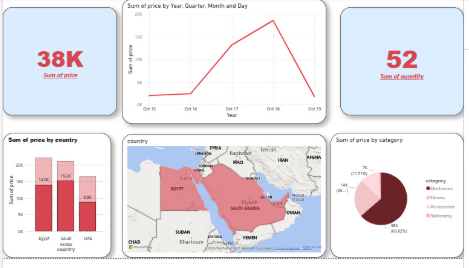

What the dashboard file says about the page in this screenshot:
{"tool":"powerbi","page":{"name":"Page 1","canvas":[1280,720],"ordinal":0},"visuals":[{"type":"filledMap","fields":{"Category":["customers_bronze.country"]},"box":[330.9,376.3,567.8,344.4],"z":0},{"type":"card","fields":{"Values":["Sum(alldata_silver.price)"]},"box":[0,23.5,317.5,300.7],"z":1000},{"type":"card","fields":{"Values":["Sum(alldata_silver.quantity)"]},"box":[940.7,23.5,339.3,300.7],"z":2001},{"type":"clusteredColumnChart","fields":{"Category":["alldata_silver.country"],"Y":["Sum(alldata_silver.price)"]},"box":[0,372.9,300.7,347.7],"z":2004},{"type":"pieChart","fields":{"Category":["alldata_silver.category"],"Y":["Sum(alldata_silver.price)"]},"box":[910.4,372.9,369.6,347.7],"z":2005},{"type":"lineChart","fields":{"Category":["alldata_silver.registration_date.Variation.Date Hierarchy.Year","alldata_silver.registration_date.Variation.Date Hierarchy.Quarter","alldata_silver.registration_date.Variation.Date Hierarchy.Month","alldata_silver.registration_date.Variation.Date Hierarchy.Day"],"Y":["Sum(alldata_silver.price)"]},"box":[330.9,0,567.8,347.7],"z":2006}]}

Visuals, with their boxes in screenshot pixels (x1, y1, x2, y2), scaled from the page's 1280x720 canvas onto the 469x268 screenshot:
filledMap - customers_bronze.country: [121,140,329,267]
card - Sum(alldata_silver.price): [0,9,116,121]
card - Sum(alldata_silver.quantity): [345,9,468,121]
clusteredColumnChart - alldata_silver.country x Sum(alldata_silver.price): [0,139,110,267]
pieChart - alldata_silver.category x Sum(alldata_silver.price): [334,139,468,267]
lineChart - alldata_silver.registration_date.Variation.Date Hierarchy.Year x alldata_silver.registration_date.Variation.Date Hierarchy.Quarter: [121,0,329,129]
